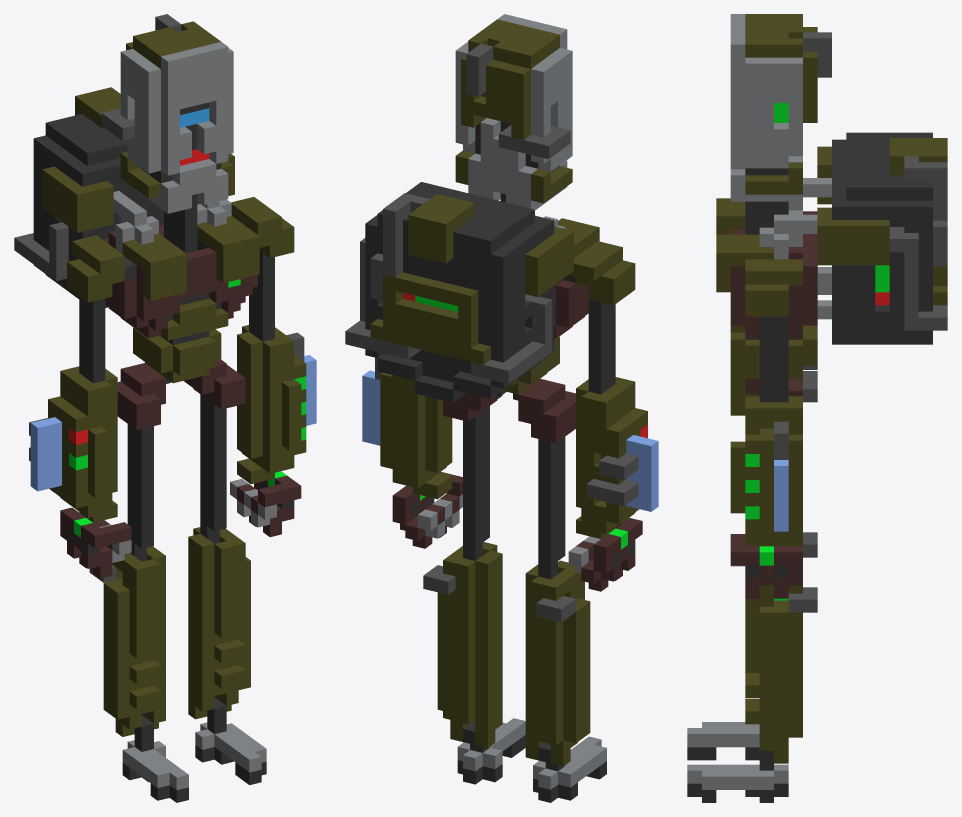
The model's file is companion-bot.gltf.
The picture shows the model from 3 angles, left to right: view 1: azimuth 30°, elevation 25°; view 2: azimuth 150°, elevation 25°; view 3: azimuth 270°, elevation 25°; orthographic projection. The views are drawn at different scales.
Parts seen in each view (by area): view 1: Node; view 2: Node; view 3: Node.
Part boxes in pixels (x1=…): Node: x1=14, y1=14, x2=316, y2=802; Node: x1=345, y1=14, x2=658, y2=802; Node: x1=687, y1=14, x2=947, y2=802.
Bounding box in the file's own units: 2.3 × 5.7 × 1.8.
Materials: 1 (1 with a texture image).
